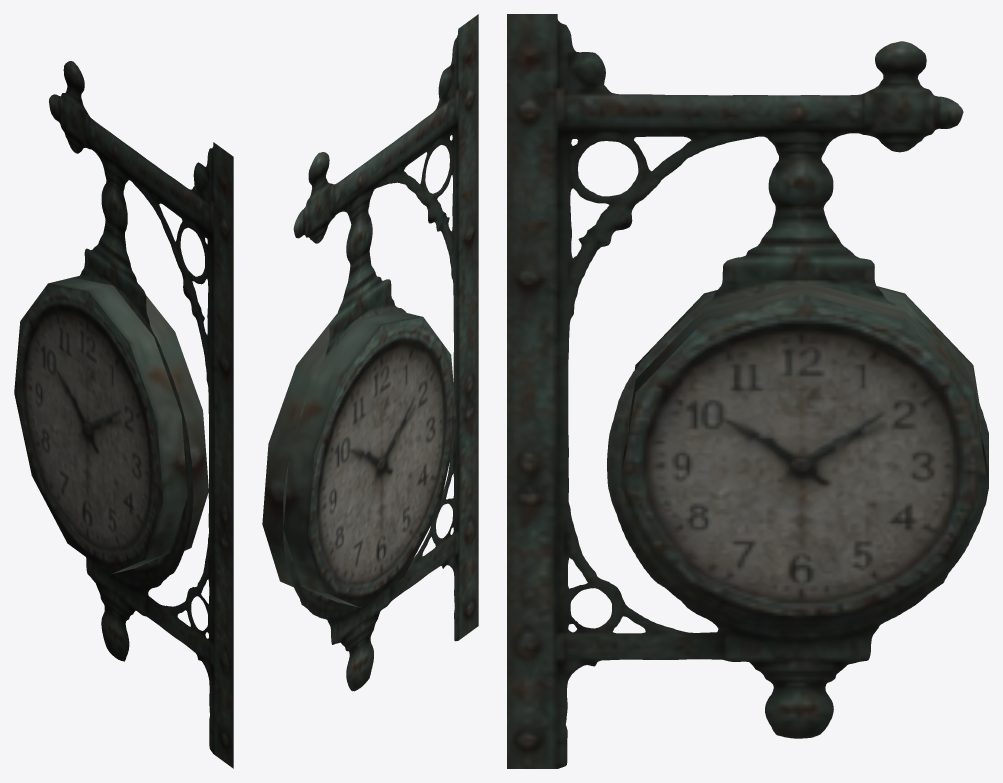
The model's file is B07_Clock.fbx.
3 renders of one model, left to right at view 1: azimuth 30°, elevation 25°; view 2: azimuth 150°, elevation 25°; view 3: azimuth 270°, elevation 25°, orthographic. The views are drawn at different scales.
Visible parts, largest first — view 1: Gothic_Clock; view 2: Gothic_Clock; view 3: Gothic_Clock.
Boxes of the visible parts, bbox=[...] form: Gothic_Clock: bbox=[14, 61, 233, 768]; Gothic_Clock: bbox=[262, 14, 478, 691]; Gothic_Clock: bbox=[507, 14, 988, 768].
Bounding box in the file's own units: 0.0387 × 0.4945 × 0.2859.
Materials: 1 (1 with a texture image).
